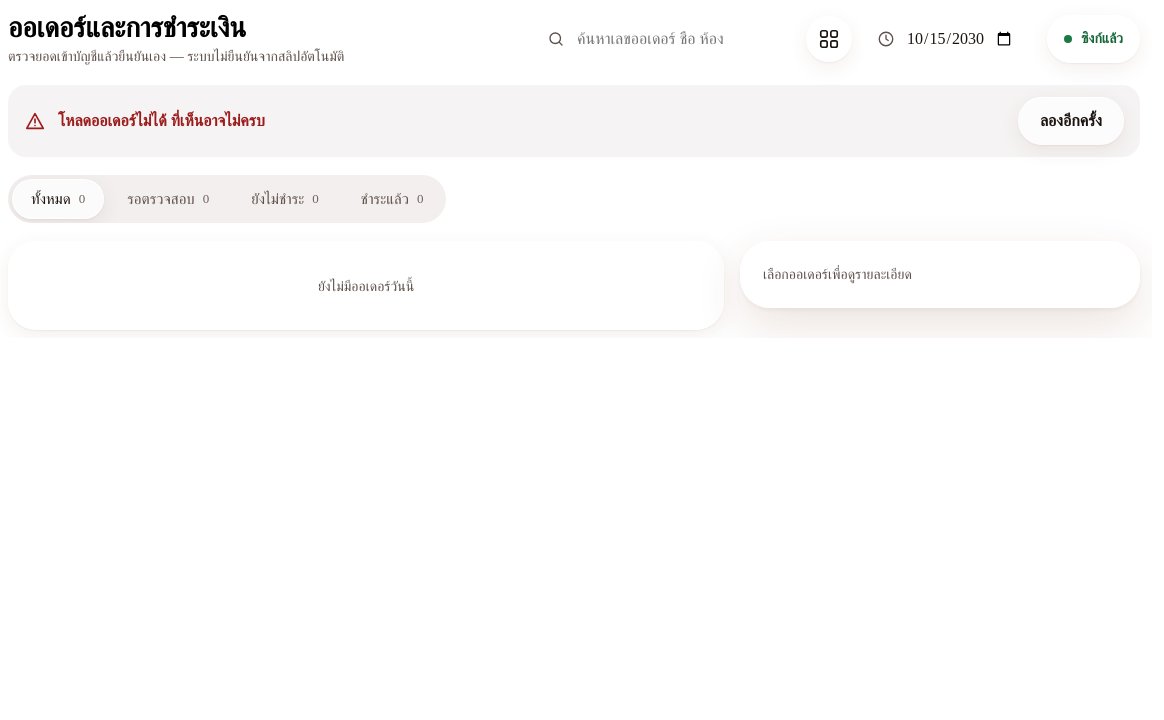
Test: loading the orders › a failed load says the list may be incomplete and can be tried again
expect the message shows "โหลดออเดอร์ไม่ได้ ที่เห็นอาจไม่ครบ": met, box [58,112,265,129]
Click the button "ลองอีกครั้ง" at (1071, 121), box [1018,97,1124,145]
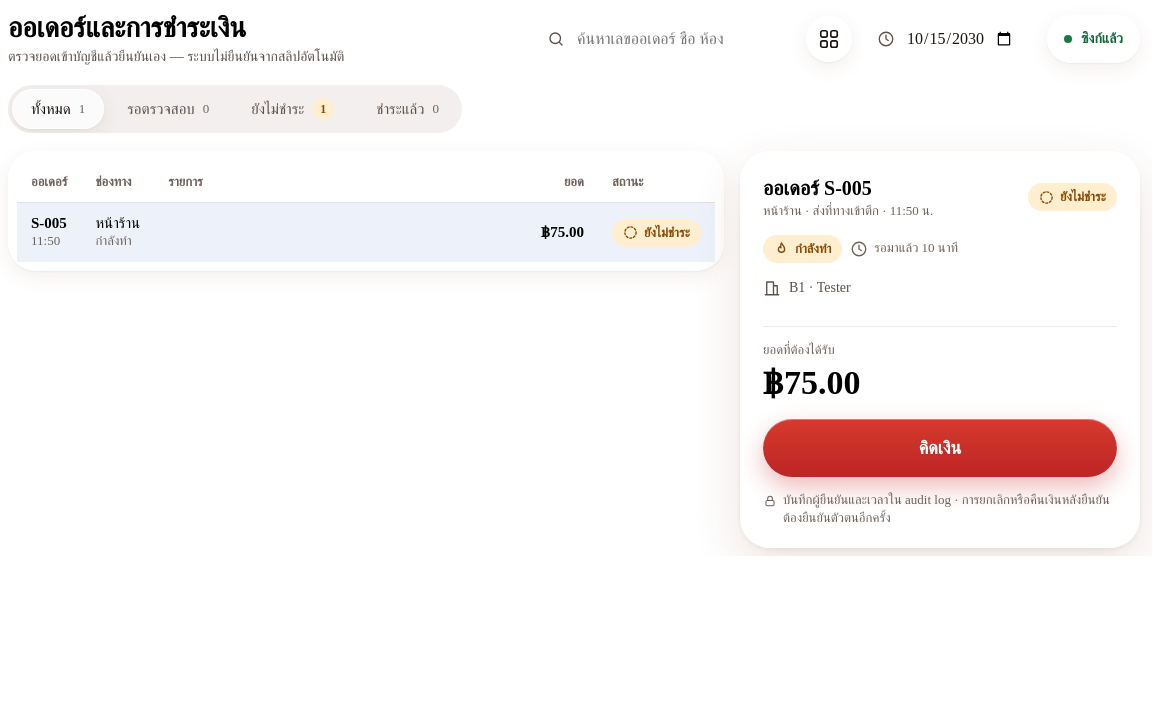
expect the message "โหลดออเดอร์ไม่ได้ ที่เห็นอาจไม่ครบ ลองอีกครั้ง" is gone: met
